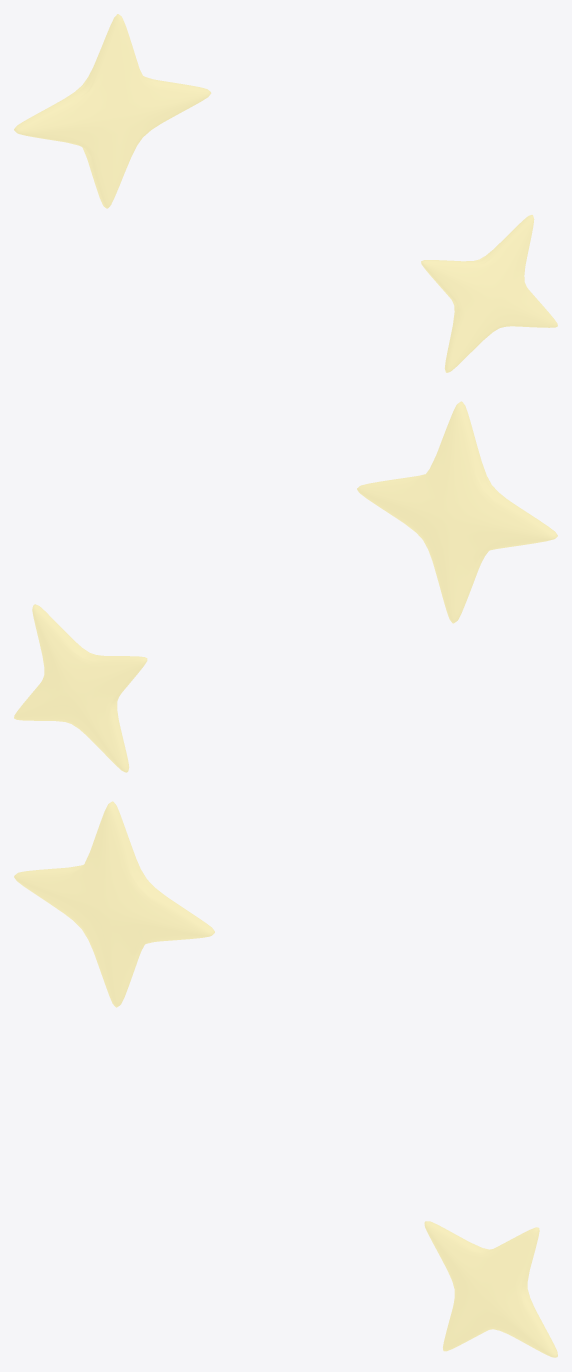
The model's file is stars1.glb.
3 renders of one model, top to bottom at view 1: azimuth 30°, elevation 25°; view 2: azimuth 150°, elevation 25°; view 3: azimuth 330°, elevation 25°, orthographic. The views are drawn at different scales.
Parts seen in each view (by area): view 1: Star.003, Star.007; view 2: Star.003, Star.007; view 3: Star.003, Star.007.
Boxes of the visible parts, x1,y1,x2,y2 form: Star.003: (14, 14, 211, 208); Star.007: (421, 215, 557, 372); Star.003: (357, 401, 557, 623); Star.007: (14, 604, 147, 772); Star.003: (14, 801, 214, 1007); Star.007: (424, 1221, 557, 1357).
Bounding box in the file's own units: 3.83 × 3 × 0.3501.
